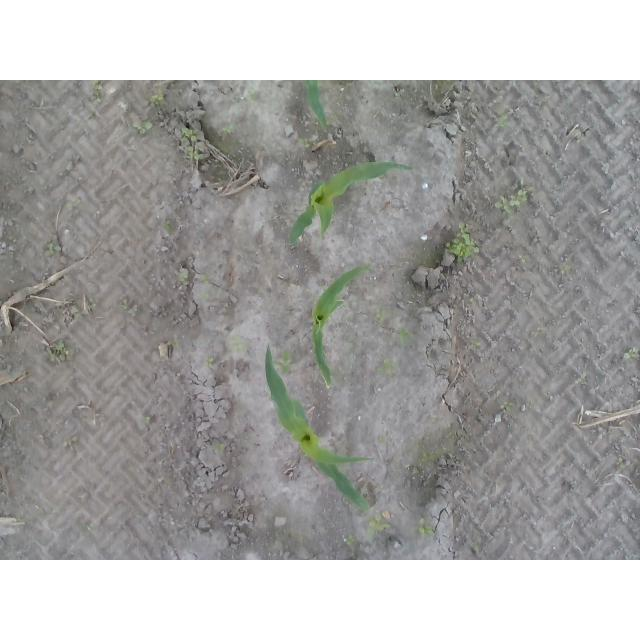Maize: (263, 342, 373, 510), (289, 162, 413, 244), (312, 266, 370, 386), (301, 82, 328, 129)
Weeds: (443, 218, 477, 262), (496, 187, 529, 213), (180, 126, 200, 160), (367, 512, 393, 537), (48, 341, 71, 364), (377, 357, 400, 375), (131, 119, 154, 136), (400, 327, 417, 347), (279, 352, 292, 375), (46, 240, 63, 256), (622, 347, 640, 362), (232, 335, 245, 353), (417, 524, 434, 537), (497, 111, 509, 128), (149, 91, 163, 105), (342, 535, 358, 545), (222, 124, 238, 134), (202, 356, 214, 368), (422, 451, 435, 462), (500, 401, 513, 412), (90, 80, 103, 90), (215, 443, 225, 456), (178, 272, 189, 283), (375, 311, 385, 321), (143, 417, 149, 424)
